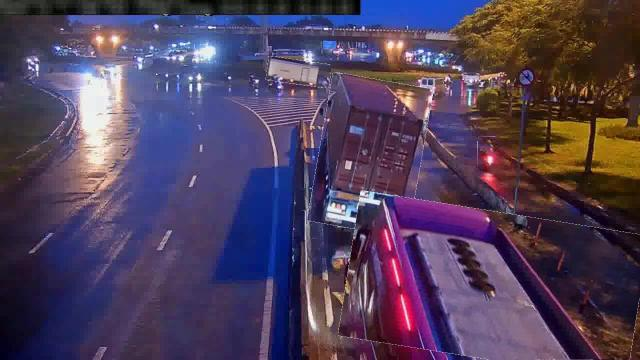Bike: (478, 137, 496, 173)
Bus: (342, 201, 640, 359)
Truck: (313, 76, 427, 234), (267, 58, 331, 86)
